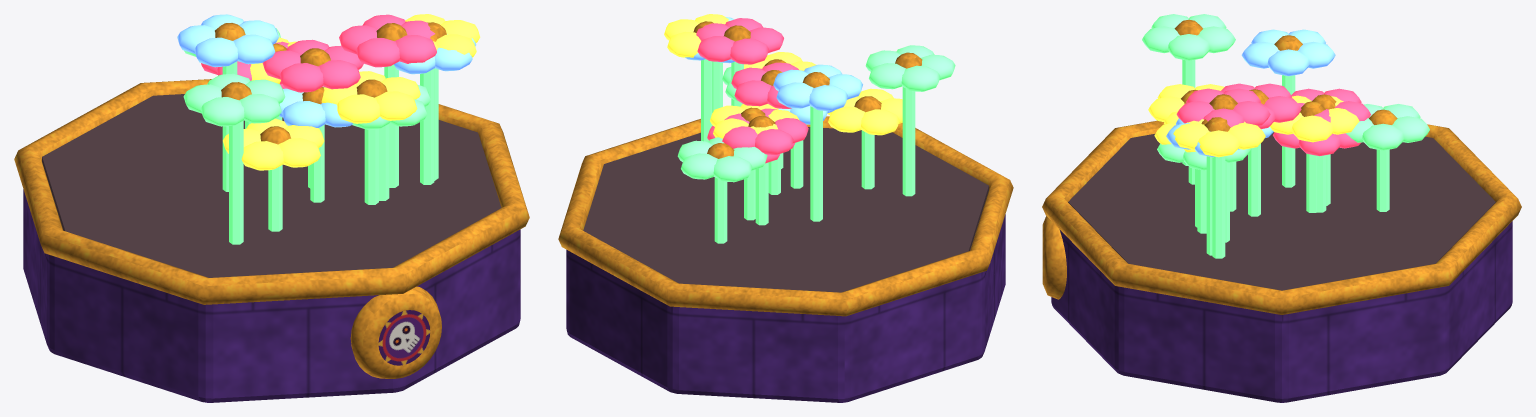
File: MO_Planter.fbx
The picture shows the model from 3 angles, left to right: view 1: azimuth 30°, elevation 25°; view 2: azimuth 150°, elevation 25°; view 3: azimuth 270°, elevation 25°; orthographic projection. The views are drawn at different scales.
Visible parts, largest first — view 1: MO_Planter; view 2: MO_Planter; view 3: MO_Planter.
Part boxes in pixels (x1,y1,x2,y2): MO_Planter: [14, 14, 529, 402]; MO_Planter: [558, 14, 1013, 402]; MO_Planter: [1042, 14, 1521, 402].
Bounding box in the file's own units: 2.58 × 1.51 × 2.58.
